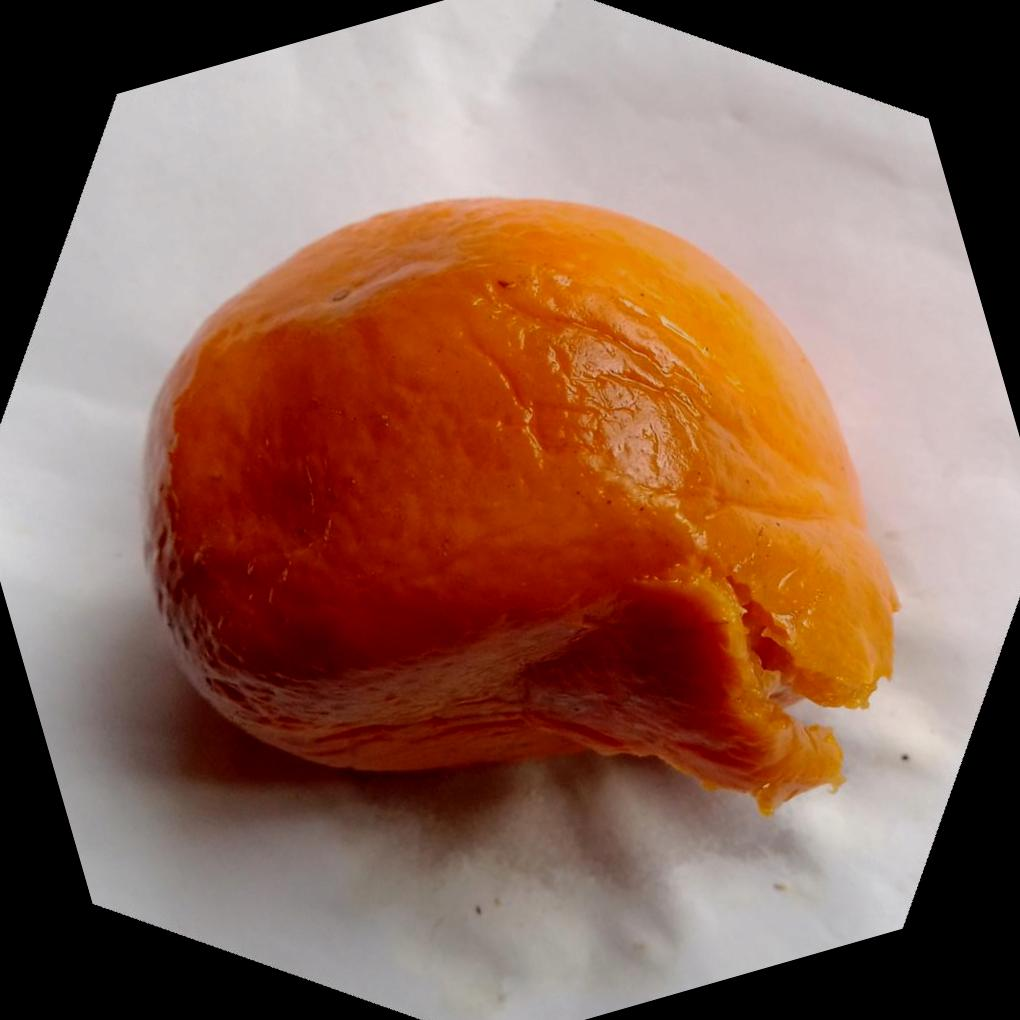FreshOrange: (140, 192, 905, 817)
